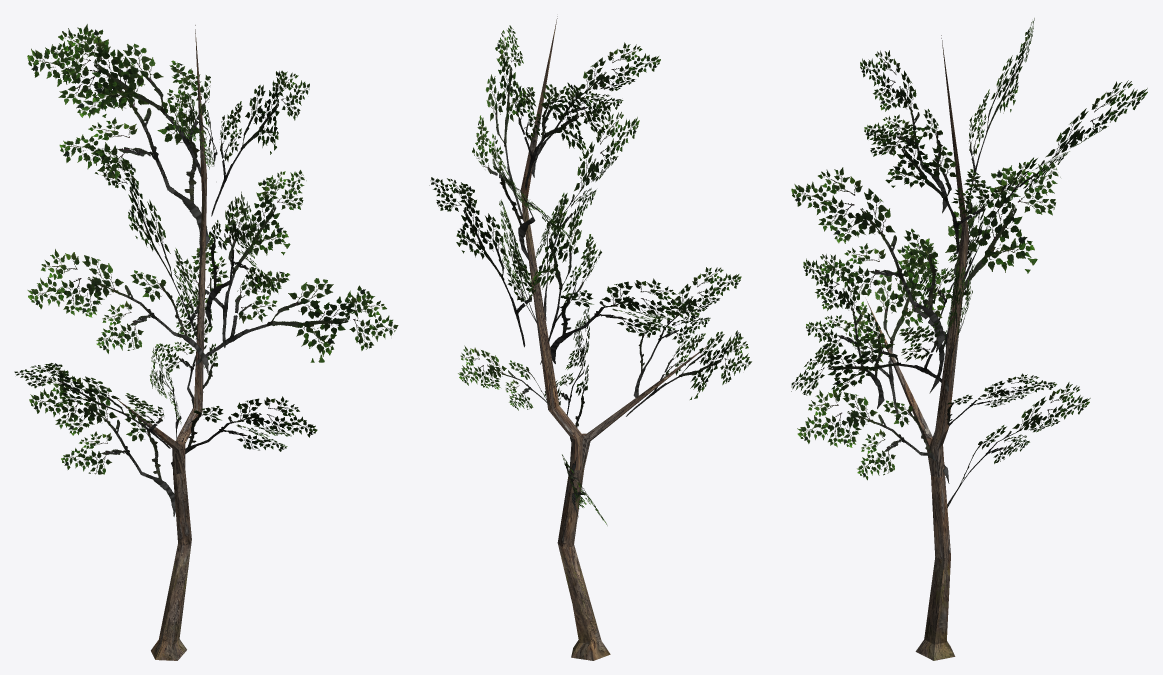
Rendered from tree_4_lod.dae.
3 renders of one model, left to right at view 1: azimuth 30°, elevation 25°; view 2: azimuth 150°, elevation 25°; view 3: azimuth 270°, elevation 25°, orthographic. The views are drawn at different scales.
Parts seen in each view (by area): view 1: Mesh_Object; view 2: Mesh_Object; view 3: Mesh_Object.
Part boxes in pixels (<box>): Mesh_Object: <box>14,24,398,660</box>; Mesh_Object: <box>429,16,751,660</box>; Mesh_Object: <box>791,18,1147,660</box>.
Bounding box in the file's own units: 5.71 × 10.62 × 5.55.
